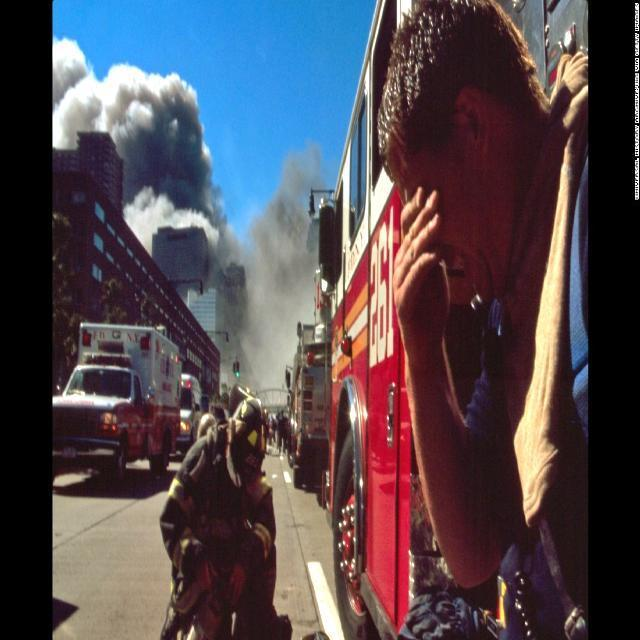Smoke: (50, 20, 256, 348), (240, 136, 328, 394)
